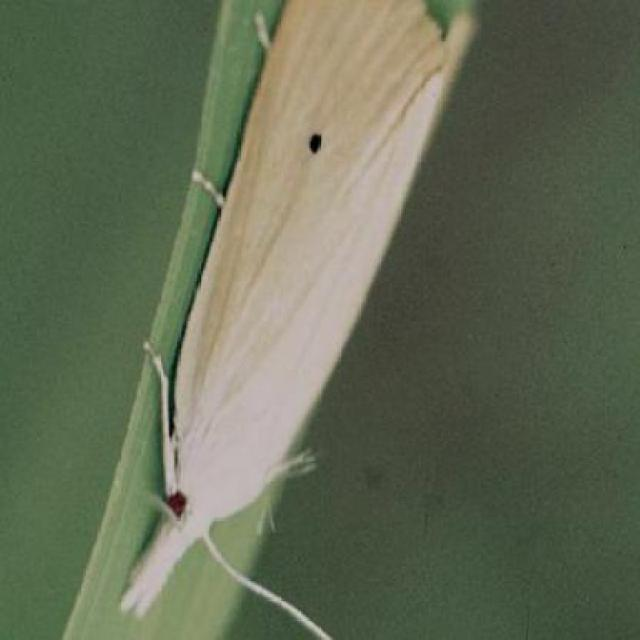stem-borer: (111, 0, 482, 622)
